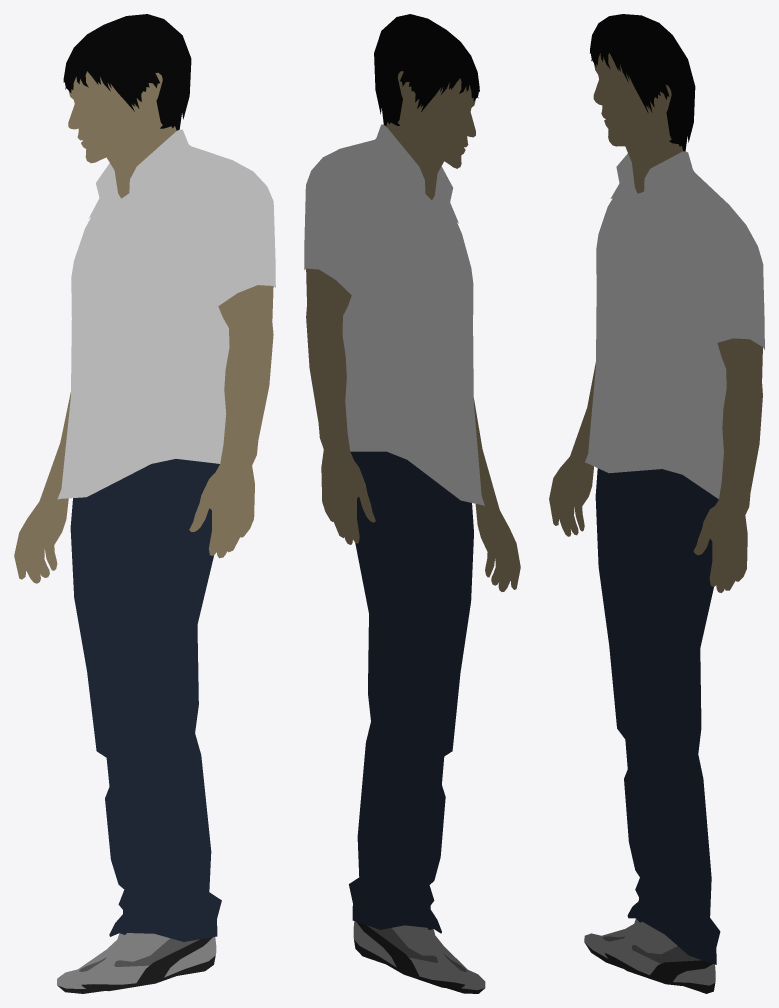
The model's file is Sang.dae.
The picture shows the model from 3 angles, left to right: view 1: azimuth 30°, elevation 25°; view 2: azimuth 150°, elevation 25°; view 3: azimuth 330°, elevation 25°; orthographic projection.
Visible parts, largest first — view 1: Sang; view 2: Sang; view 3: Sang.
Part boxes in pixels (box(x1,y1,x2,y2)): Sang: box(14, 14, 275, 993); Sang: box(304, 14, 520, 993); Sang: box(549, 14, 764, 993).
Size of the model in its own units: 0.4545 by 0.0709 by 1.76.
